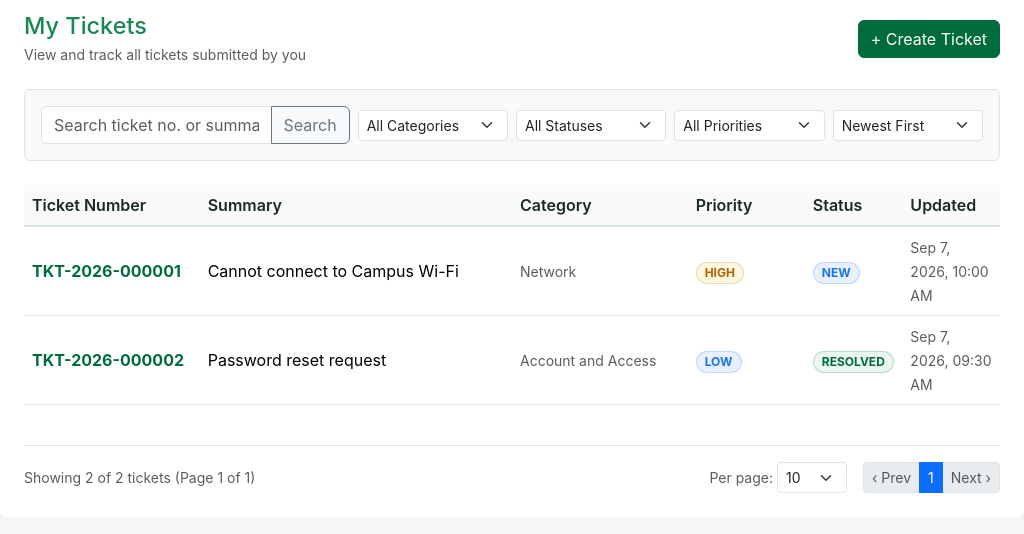
MyTickets Component (Issue 13 UI Tests) › BR-11 & UI-04: Displays No-Results State when filters yield 0 results
Expected: the text "TKT-2026-000001" is shown, [32,261,181,281]
Note: Enter search term and submit
In the field named "search tickets": (156, 125) [41,106,272,144], type "nonexistent"
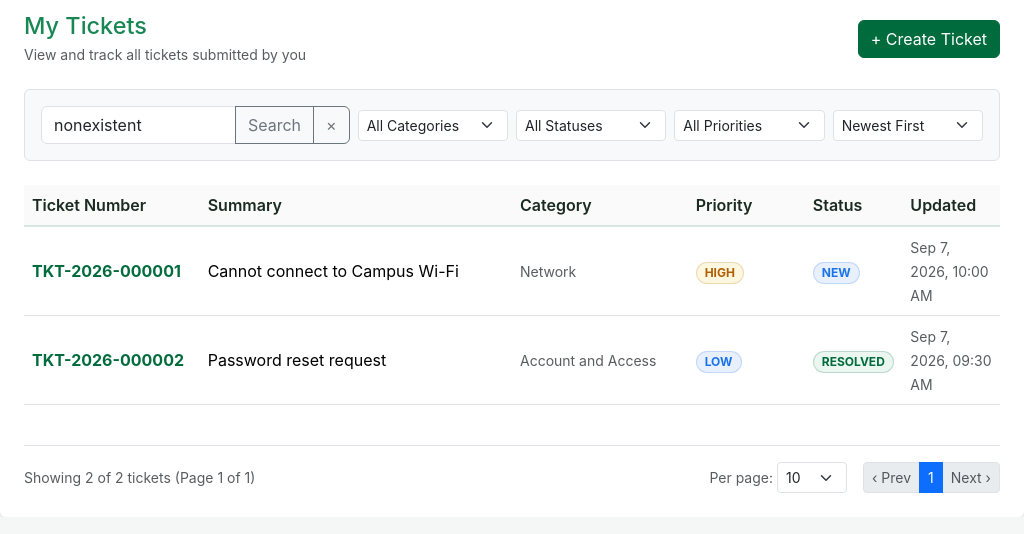
Click the button named "submit search": (275, 125) [235,106,314,144]
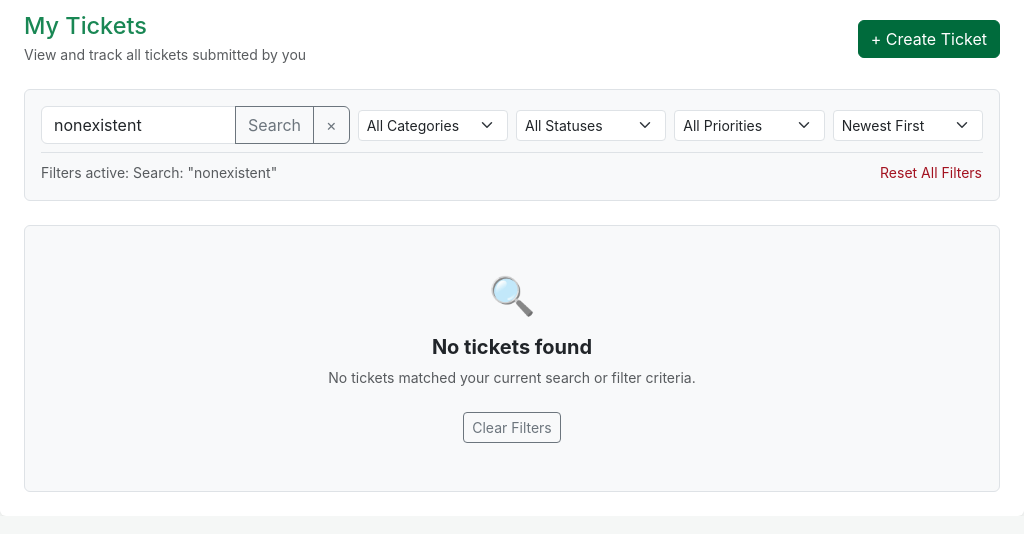
Result: the element with test id "no-results-state" is shown at [24,225,1000,492]
Result: the heading "No tickets found" is shown at [432,335,592,359]
Note: Clicking "Clear Filters" resets and reloads
Click the button "Clear Filters": (512, 428) [463,412,561,443]
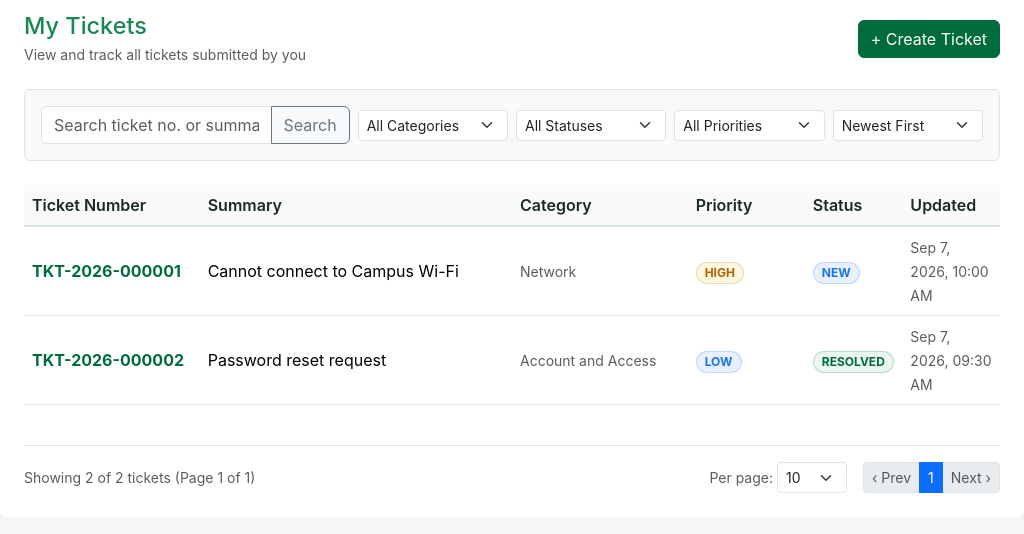
Result: the text "TKT-2026-000001" is shown at [32,261,181,281]
